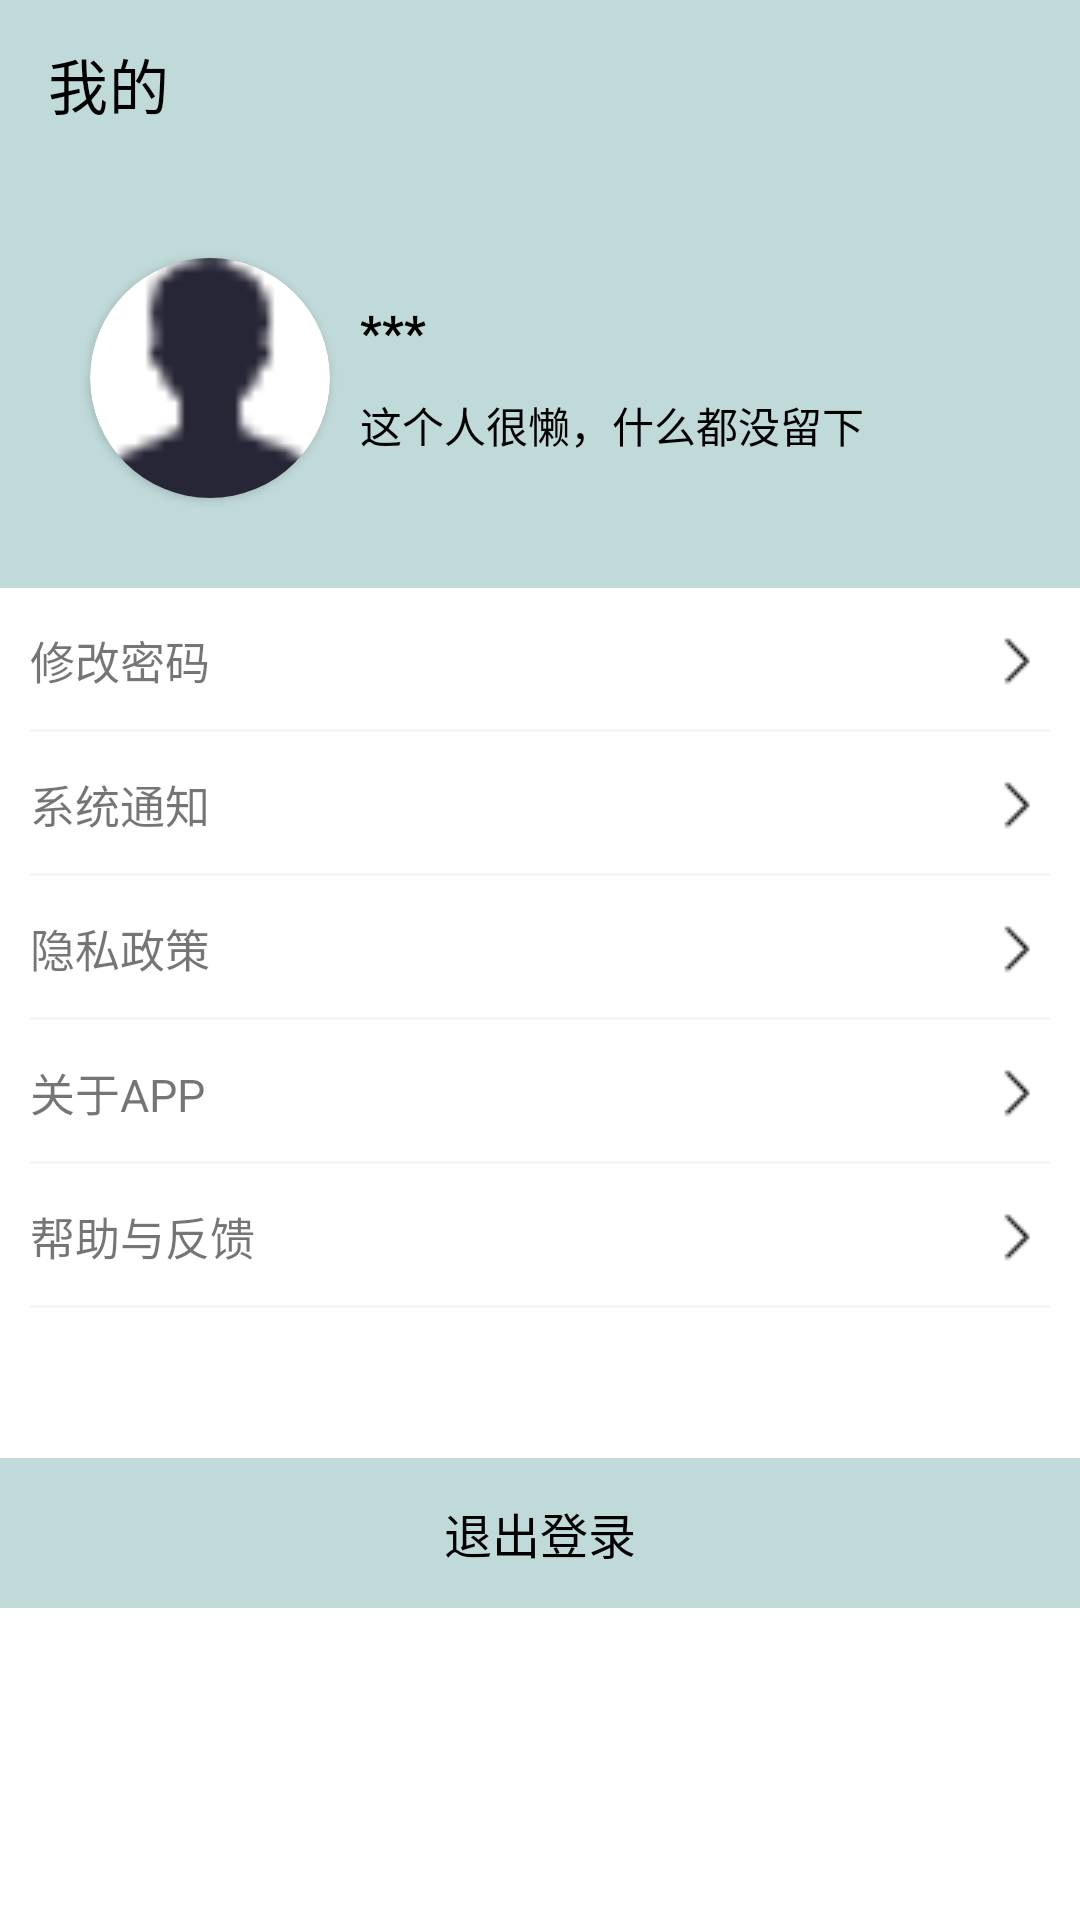

Named icons in this screenshot (1080w x 1920h) and their bounding boxes, [left=x1, top=y1, right=x2, bottom=y2]:
head: [left=90, top=258, right=330, bottom=498]
next: [left=1004, top=638, right=1030, bottom=684], [left=1004, top=782, right=1030, bottom=828], [left=1004, top=926, right=1030, bottom=972], [left=1004, top=1070, right=1030, bottom=1116], [left=1004, top=1214, right=1030, bottom=1260]
